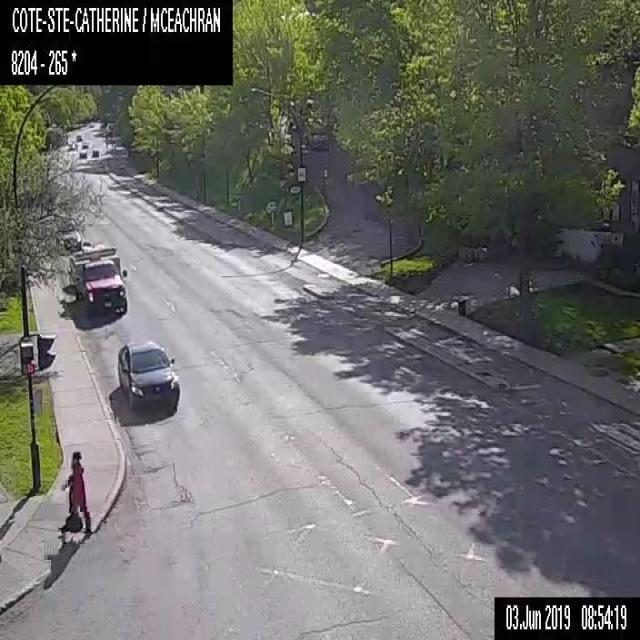pedestrian: (62, 448, 92, 535)
vehicle: (117, 340, 179, 415), (67, 242, 127, 313), (55, 228, 81, 248), (70, 141, 77, 149), (81, 140, 88, 148), (80, 149, 86, 157), (92, 148, 98, 156), (76, 134, 80, 140)
